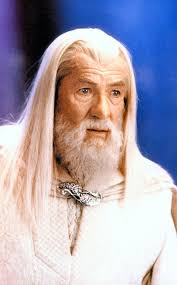gandalf gray: (3, 30, 174, 280)
